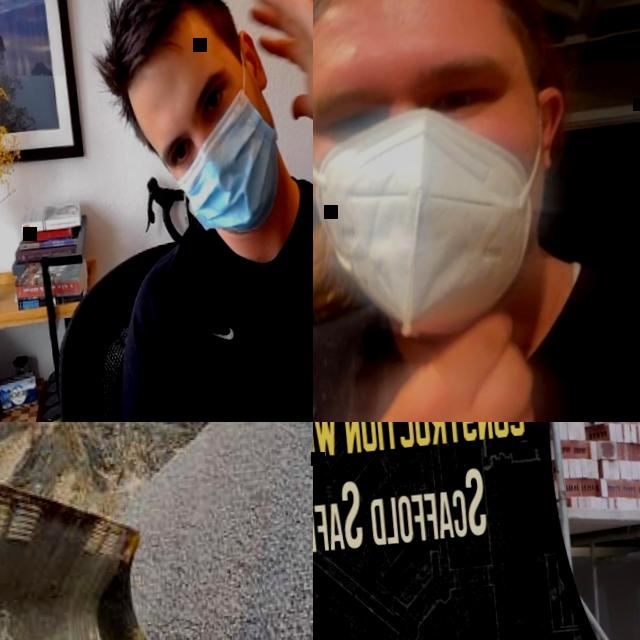Mask: (313, 98, 567, 359), (158, 31, 288, 238)
NO-Hardhat: (313, 0, 546, 77), (92, 0, 236, 95)
NO-Safety Vest: (313, 263, 640, 422), (138, 197, 313, 422)
Person: (313, 0, 640, 422), (48, 0, 313, 422)
machinery: (0, 422, 183, 640)
